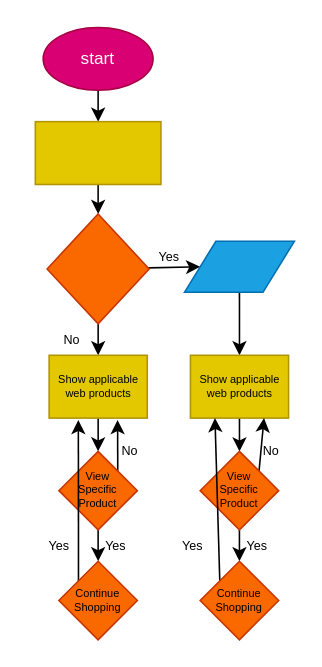
Some shapes in this 322 by 667 pixel diagram are drawn without their labels. Each missing label, with the centre of its shape:
"Customer search input query" goes at point (238, 266).
"Enter Website" goes at point (97, 152).
"Search instead of Explore" goes at point (97, 268).
